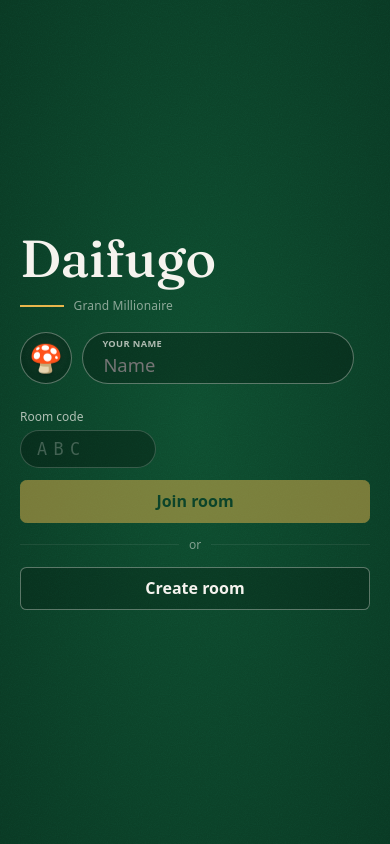
Scenario: Lobby › keeps the row of a connected player who queued their own leave (§7.7)
In the field labelled "Your name": x=218, y=358 x1=82 y1=332 x2=354 y2=384, type "Will"
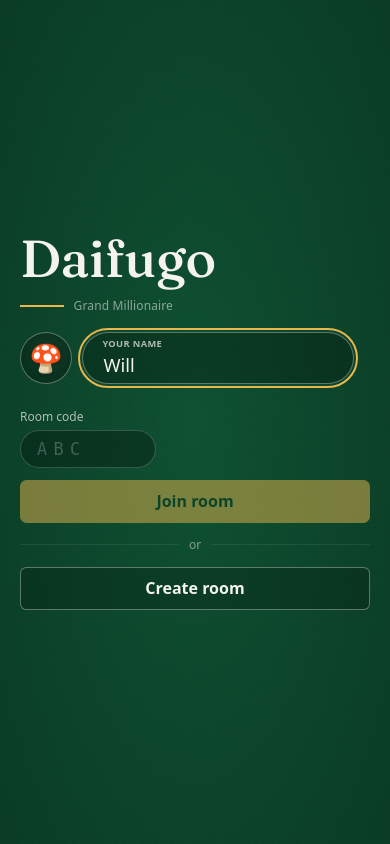
In the field labelled "Room code": x=88, y=449 x1=20 y1=430 x2=156 y2=468, type "ABC234"
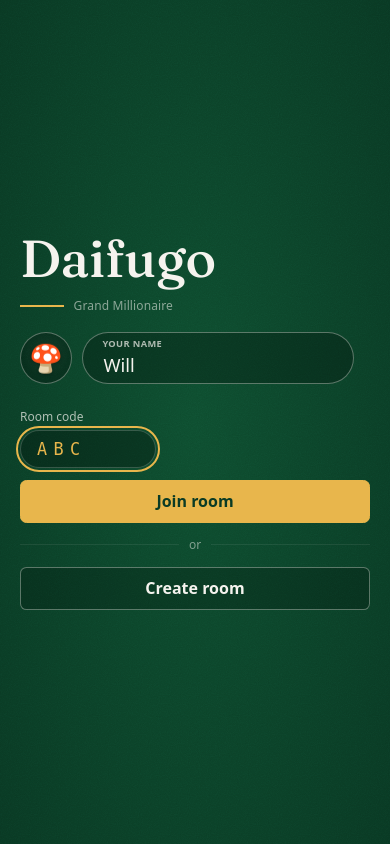
Click the button "Join room": x=195, y=501 x1=20 y1=480 x2=370 y2=523
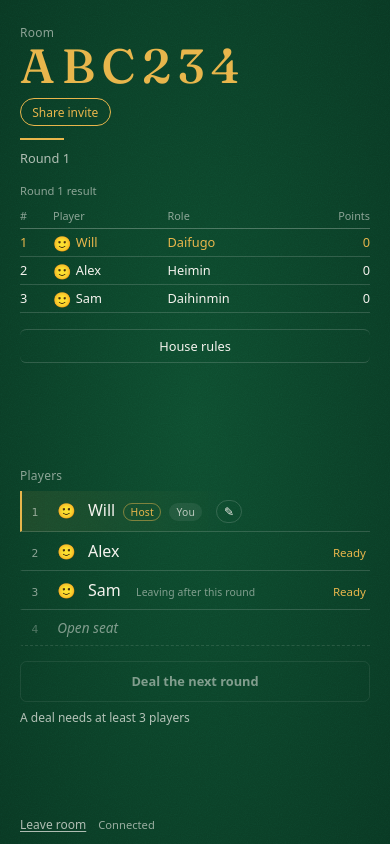
Check: the text "Leaving after this round" is shown, box x1=129 y1=584 x2=263 y2=601
